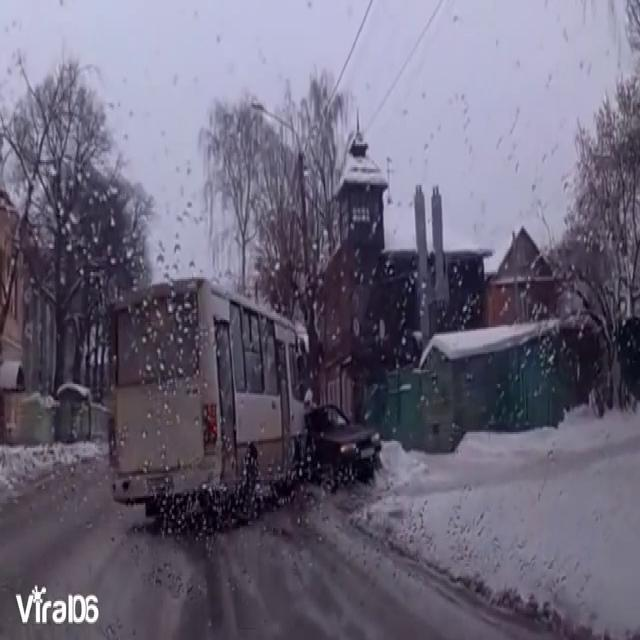moderate: (106, 266, 384, 538)
